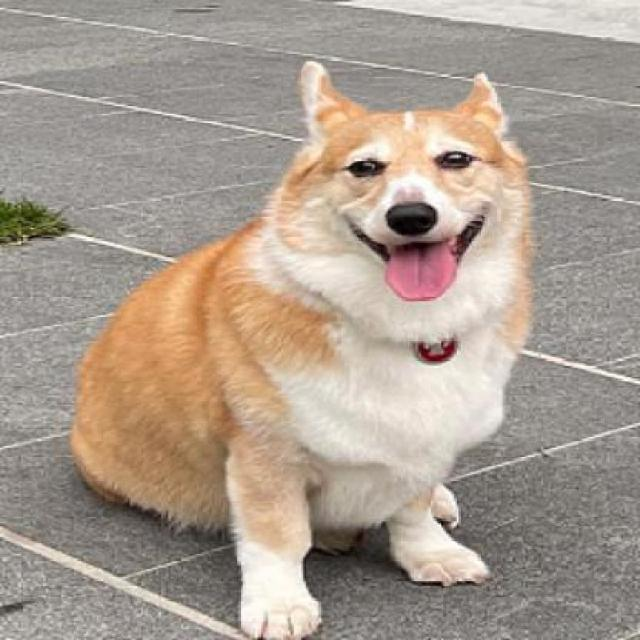Dog: (68, 60, 538, 638)
